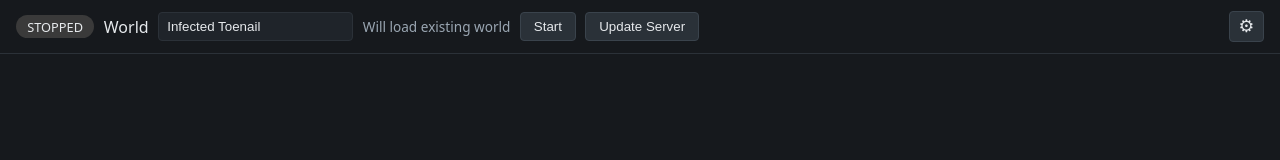
ServerHeader › shows a checking state and disables Start once the typed text no longer matches the resolved candidate
Check: the text "Will load existing world" is shown, box [363,17,510,36]
Type "x" into the field labelled "World" at [256, 27], box [158,12,353,41]
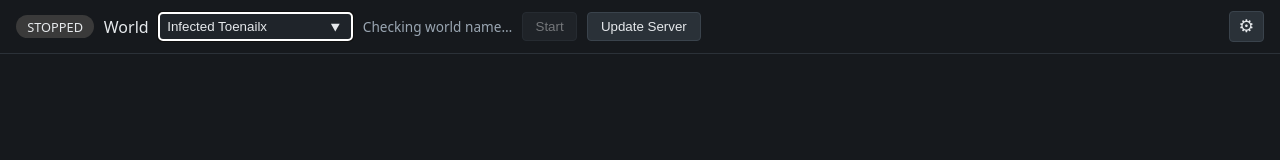
Check: the text "Will load existing world" is gone
Check: the text "Checking world name…" is shown, box [363,17,512,36]
Check: the button "Start" is disabled, box [522,12,578,41]
